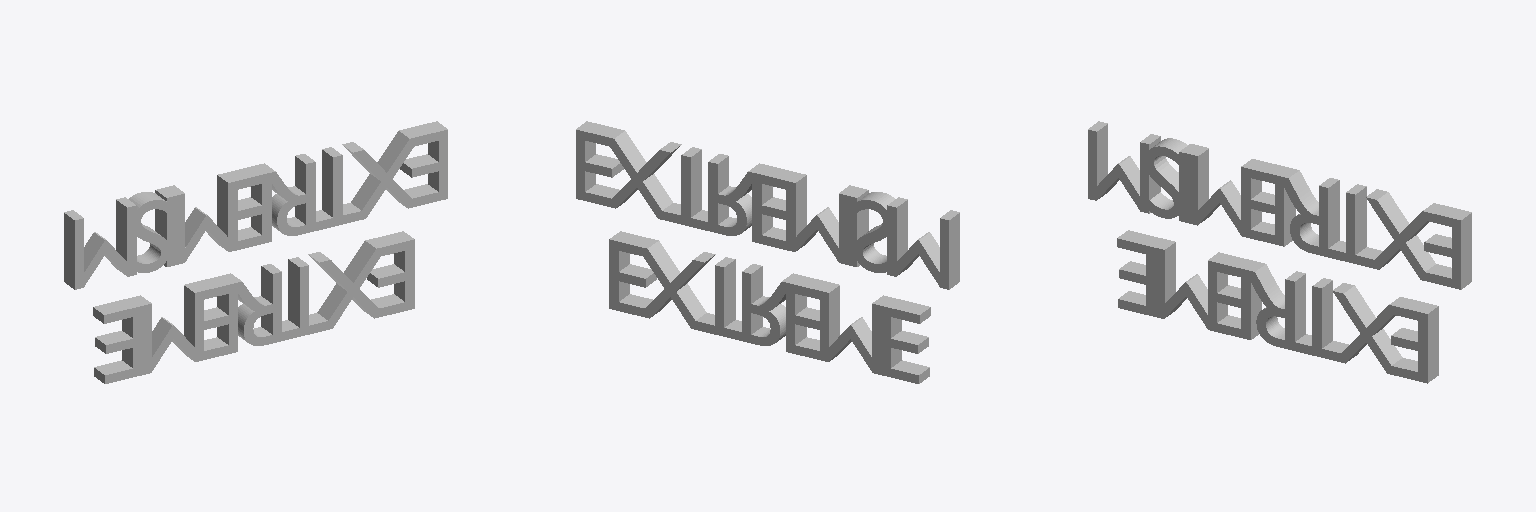
File: extreme.obj
The picture shows the model from 3 angles: view 1: azimuth 30°, elevation 25°; view 2: azimuth 150°, elevation 25°; view 3: azimuth 330°, elevation 25°; orthographic projection.
Visible parts, largest first — view 1: Text; view 2: Text; view 3: Text.
Boxes of the visible parts, x1,y1,x2,y2 form: Text: [64, 121, 447, 383]; Text: [576, 121, 959, 383]; Text: [1088, 121, 1471, 383].
Bounding box in the file's own units: 3.84 × 1.69 × 0.2.